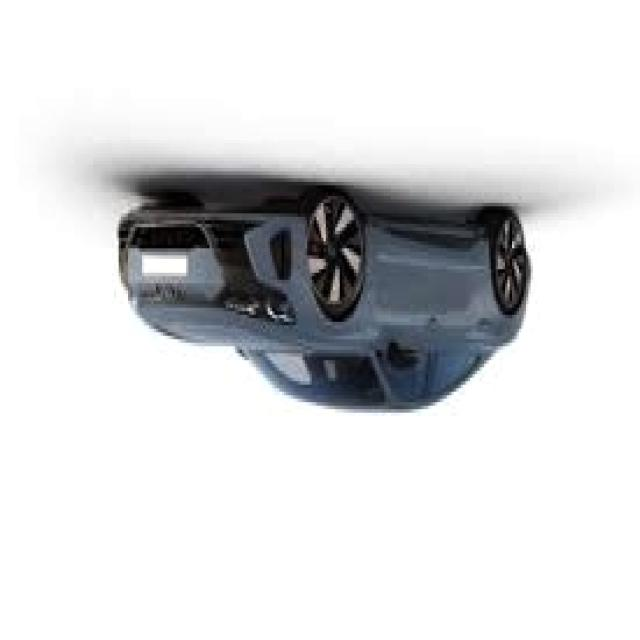blue: (116, 189, 532, 415)
